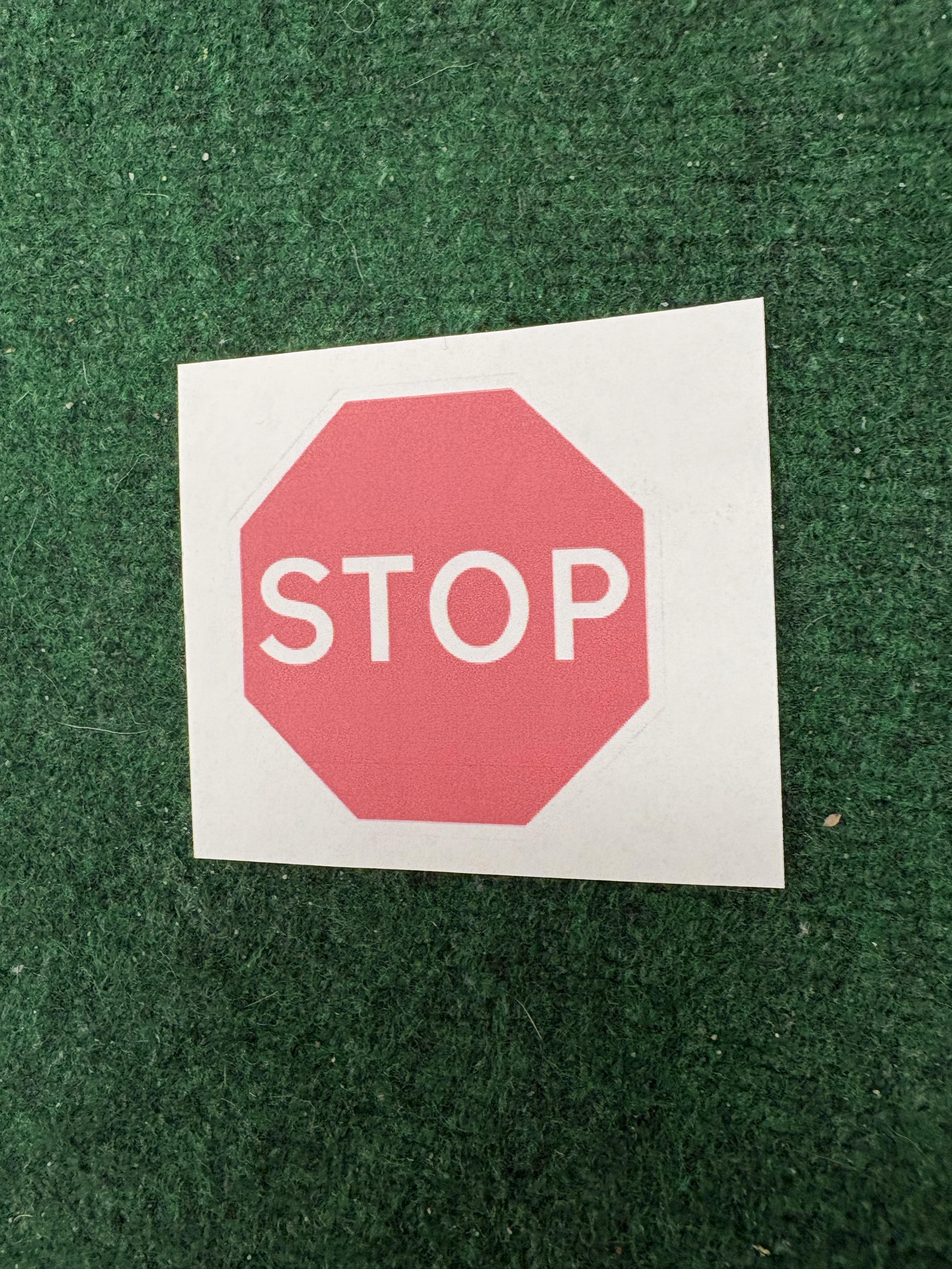Stop: (132, 405, 584, 1180)
